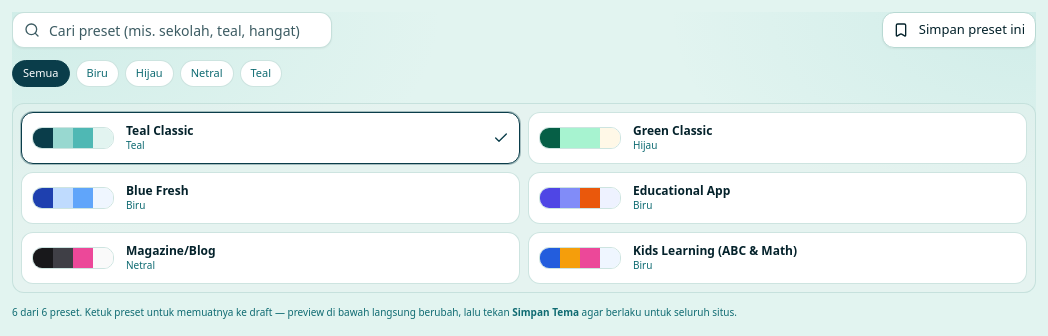
Test: ThemePresetGallery › memfilter berdasarkan keluarga warna
The width and height of the screenshot is (1048, 336).
Click the button "Biru". click: click(97, 73)
box: [76,60,119,86]
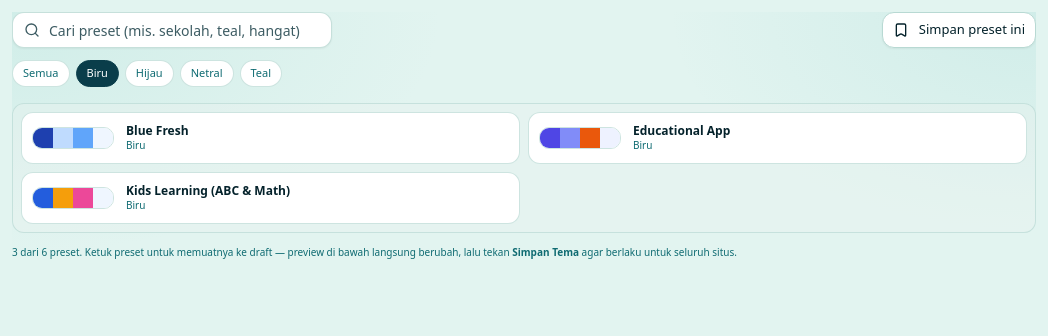
expect the element that starts with "dari" shows "3 dari 6 preset.": met, box [12,244,737,258]
